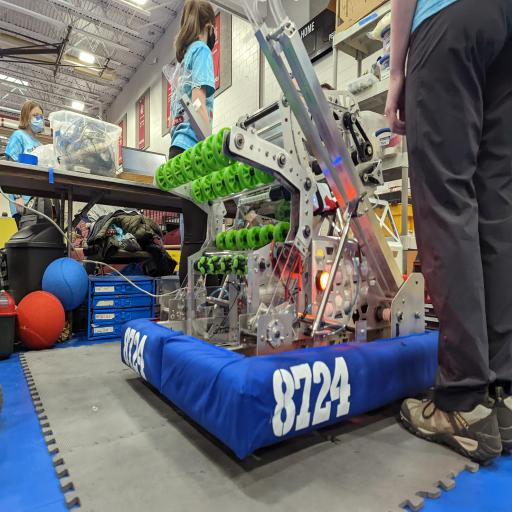robot: (122, 87, 453, 461)
